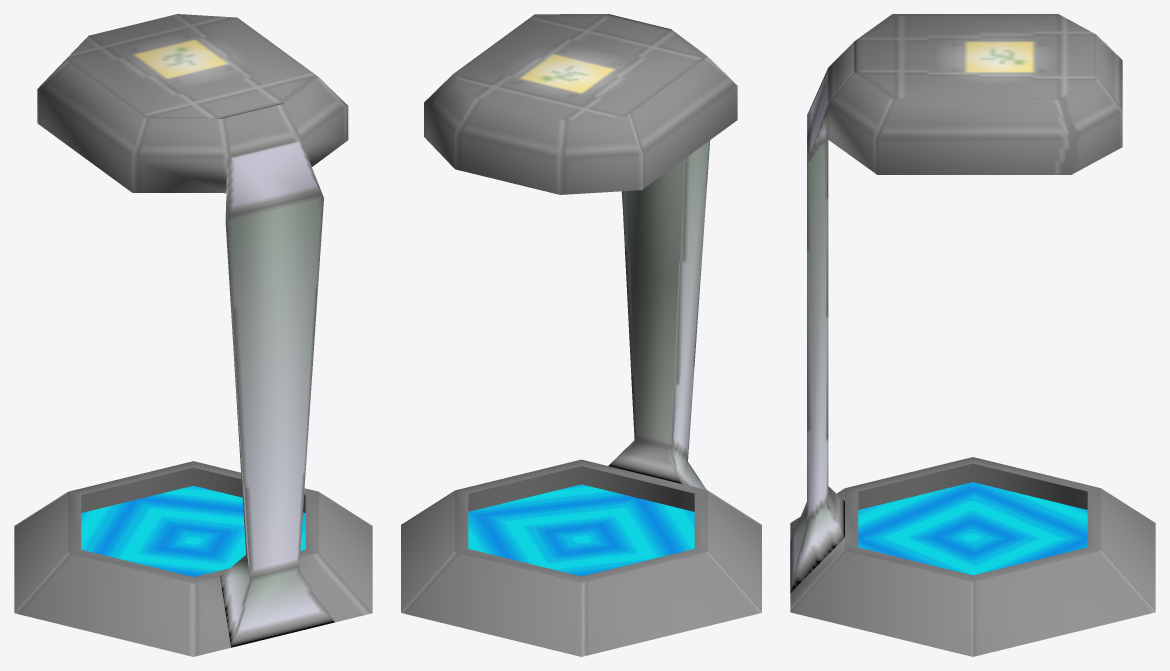
Rendered from goal.fbx.
3 views of the same model, side by side, from view 1: azimuth 30°, elevation 25°; view 2: azimuth 150°, elevation 25°; view 3: azimuth 270°, elevation 25° (orthographic). The views are drawn at different scales.
Parts seen in each view (by area): view 1: Cylinder001; view 2: Cylinder001; view 3: Cylinder001.
Part boxes in pixels (bbox=[...]): Cylinder001: bbox=[14, 14, 372, 656]; Cylinder001: bbox=[401, 14, 761, 656]; Cylinder001: bbox=[790, 14, 1155, 656].
Size of the model in its own units: 1.09 by 1.46 by 0.9447.
1 material, 1 textured.
